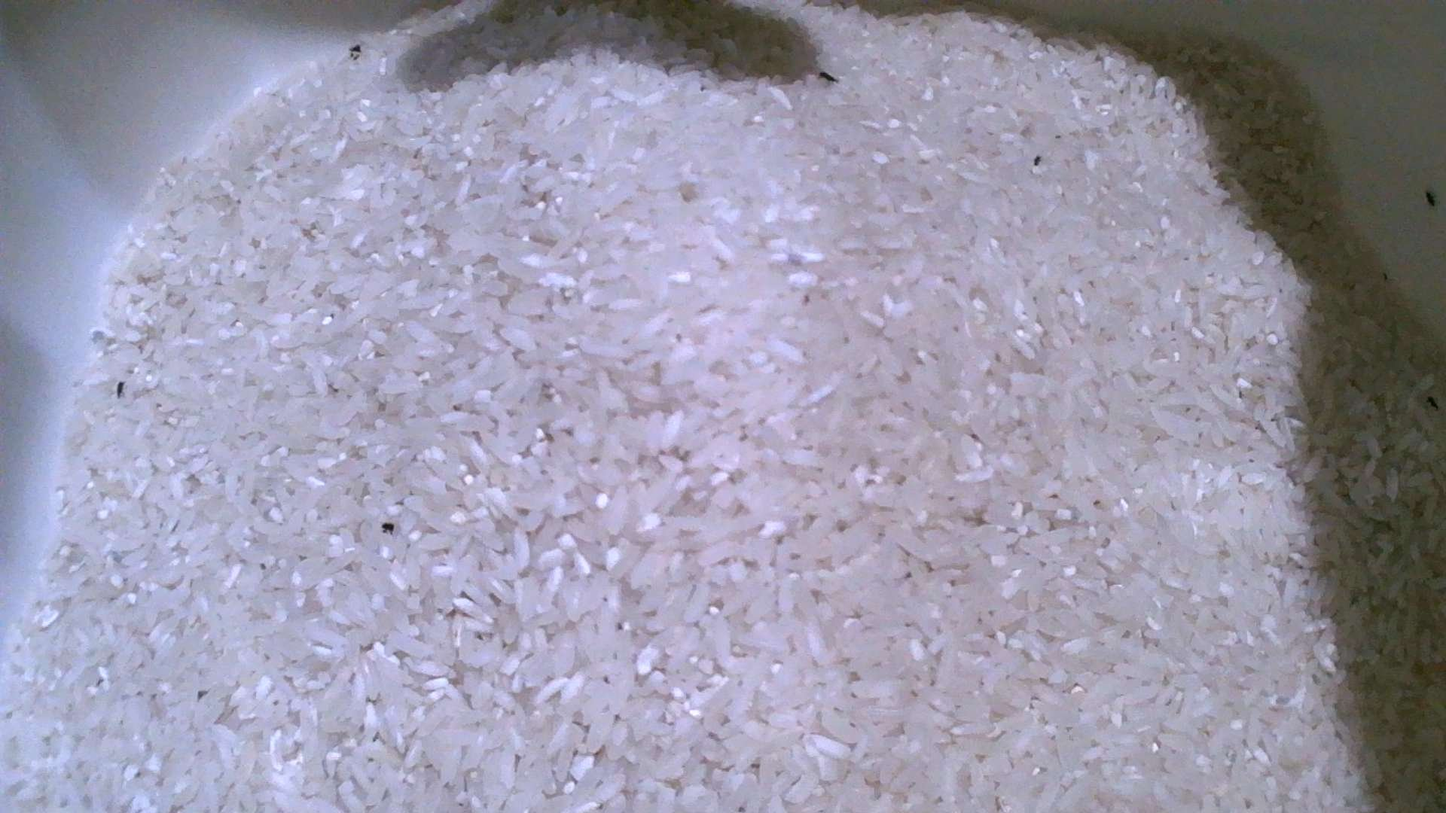Sitophilus-Oryzae: (817, 71, 837, 82), (1425, 190, 1436, 207), (115, 381, 126, 397)
